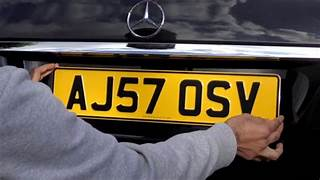number_plate: (56, 68, 267, 127)
